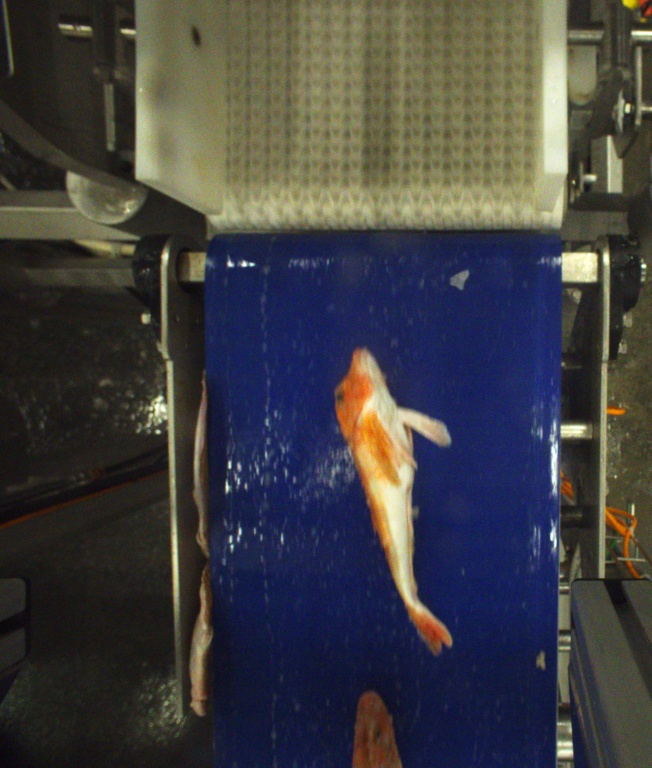GUU: (331, 339, 454, 656)
